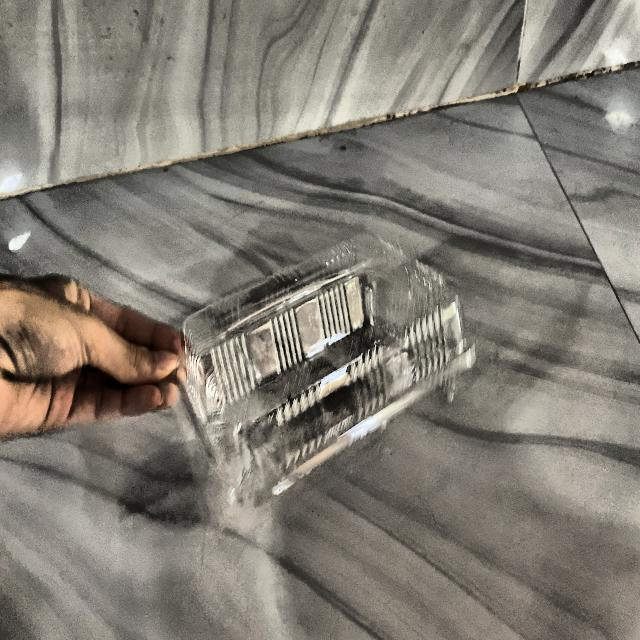plastic container: (159, 232, 480, 509)
